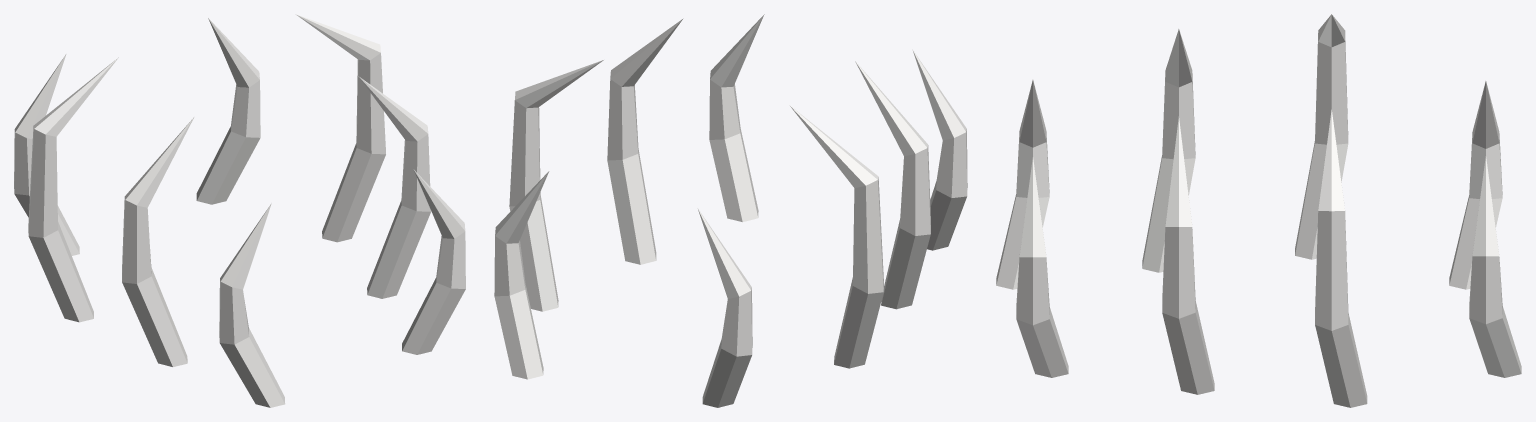
File: Bones_4.fbx
3 views of the same model, side by side, from view 1: azimuth 30°, elevation 25°; view 2: azimuth 150°, elevation 25°; view 3: azimuth 270°, elevation 25° (orthographic). The views are drawn at different scales.
Visible parts, largest first — view 1: Bones_4; view 2: Bones_4; view 3: Bones_4.
Part boxes in pixels (bbox=[...]): Bones_4: bbox=[14, 14, 465, 407]; Bones_4: bbox=[494, 14, 967, 407]; Bones_4: bbox=[996, 14, 1521, 407].
Size of the model in its own units: 79.17 by 91.36 by 50.76.
